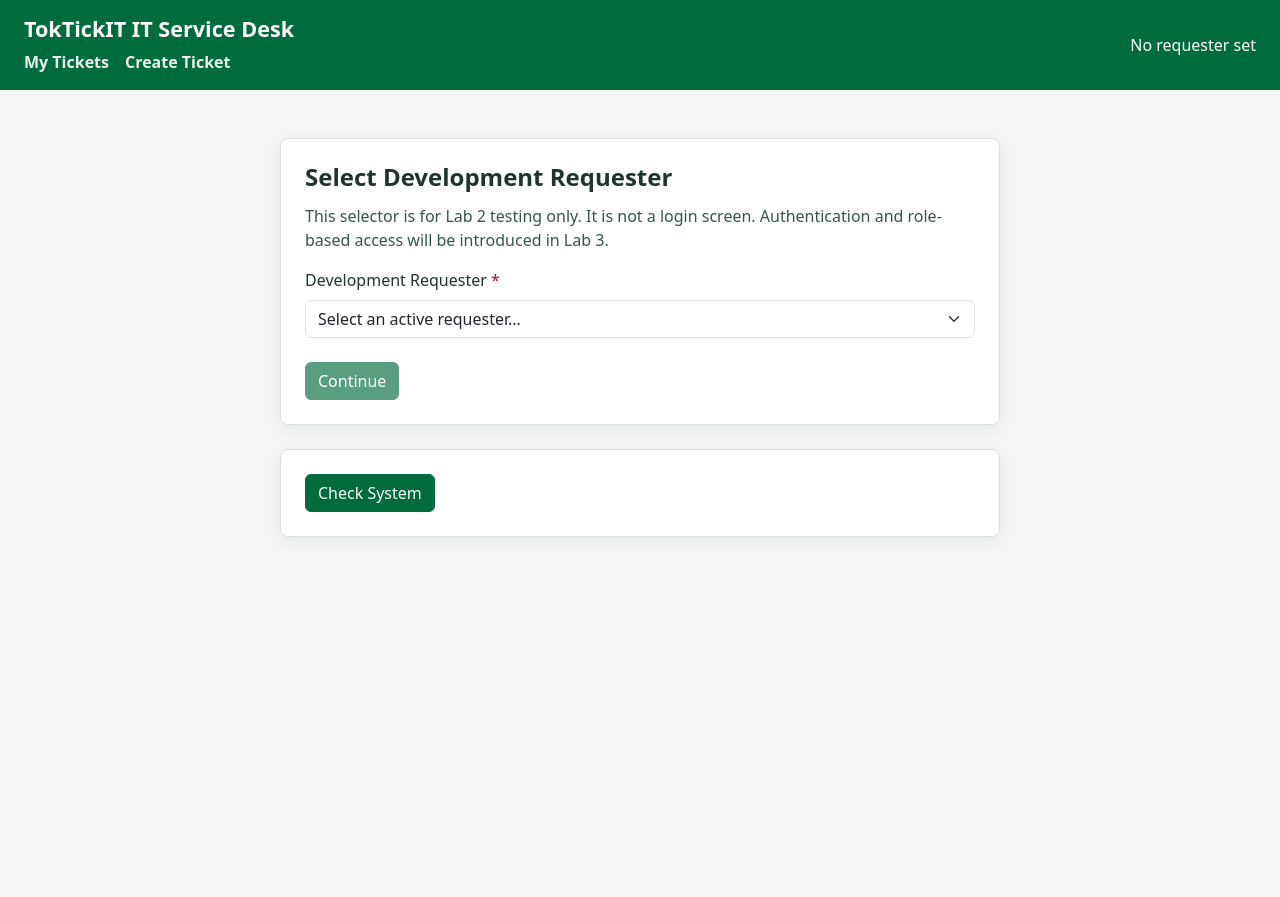
Scenario: My Tickets workflow › shows the selected Requester's paginated Ticket list
Select "Anong Student (anong.student@example.test)" in the dropdown labelled "Development Requester *": (640, 319) x1=305 y1=300 x2=975 y2=338
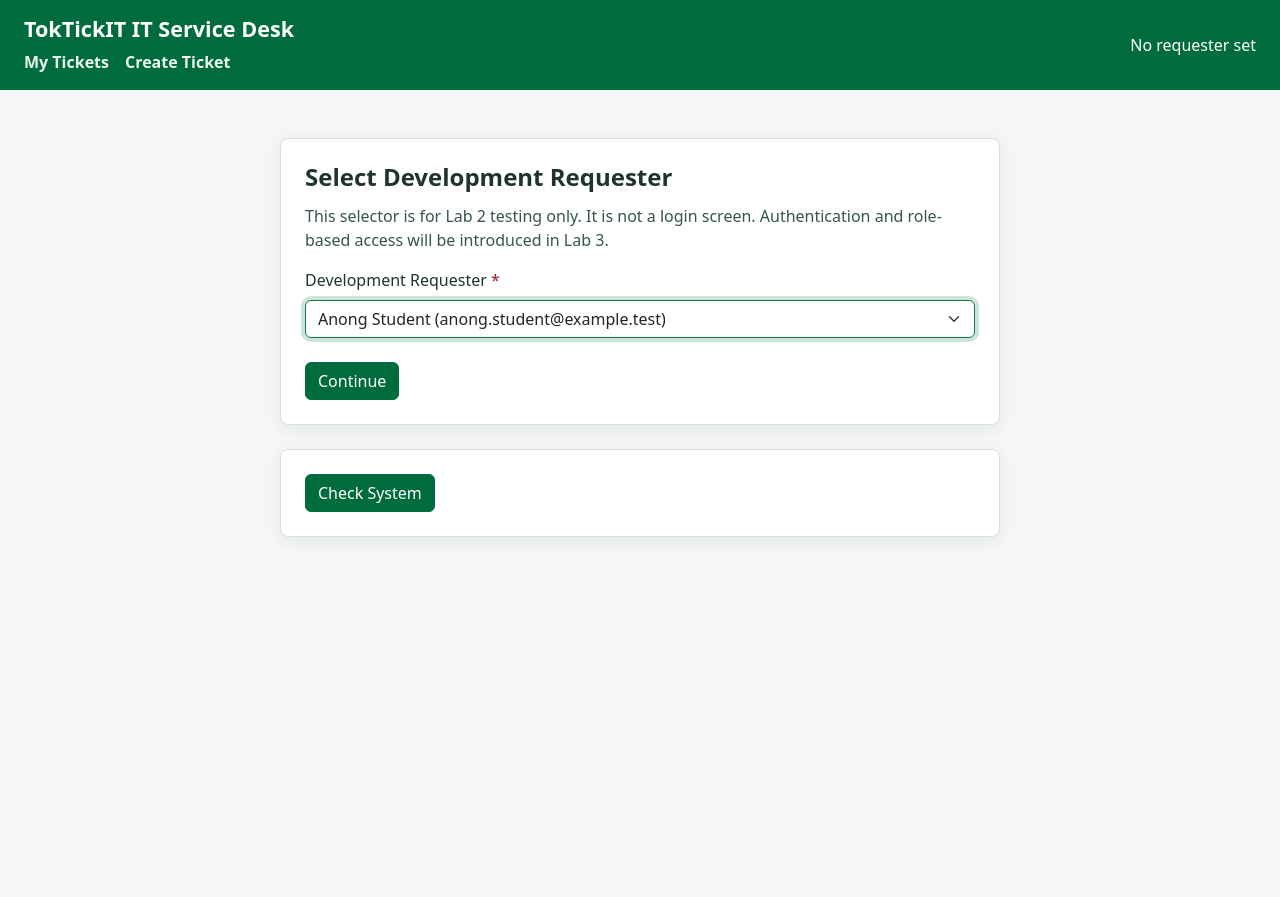
Click the button "Continue": (352, 381) x1=305 y1=362 x2=399 y2=400
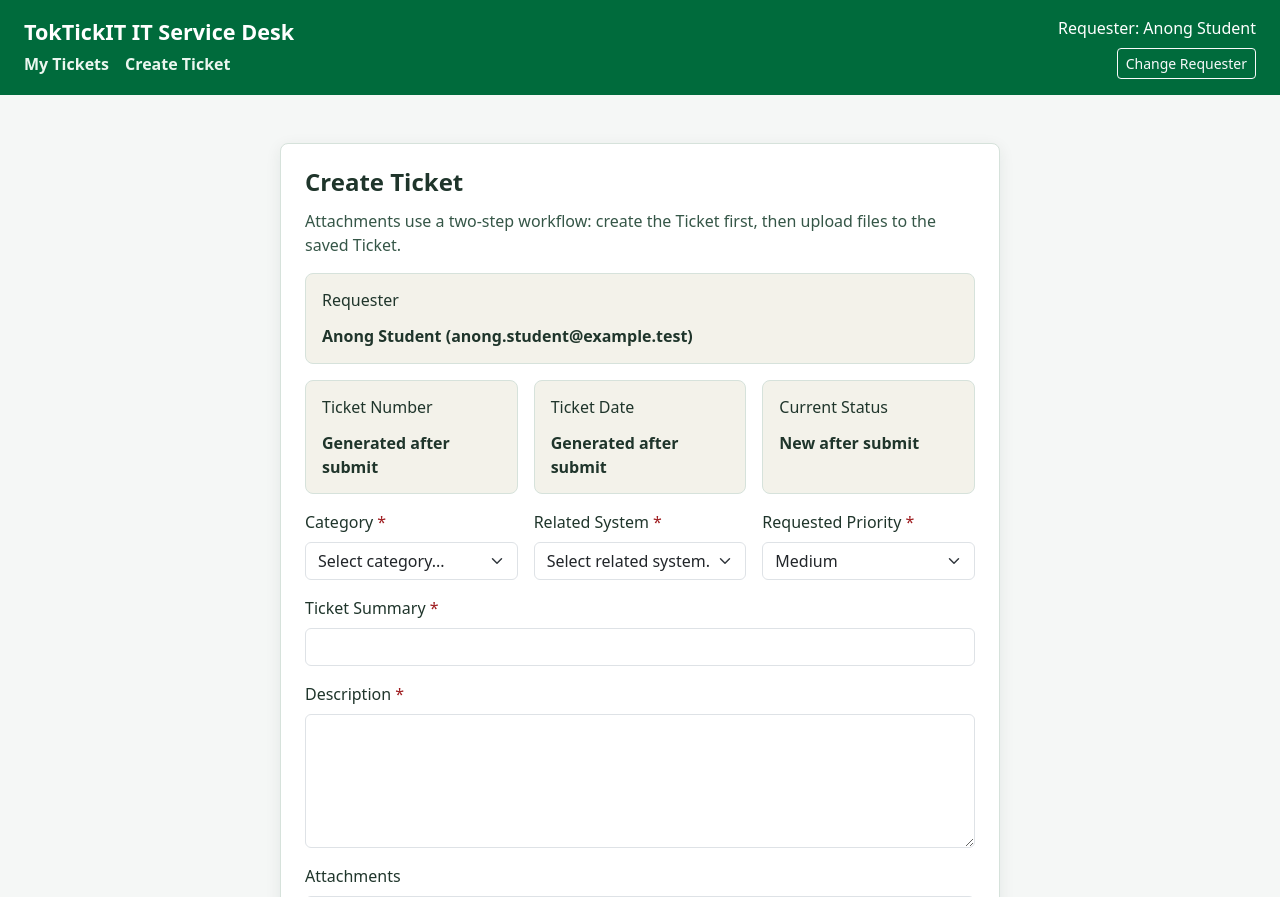
Click the link "My Tickets": (66, 64) x1=24 y1=52 x2=109 y2=76
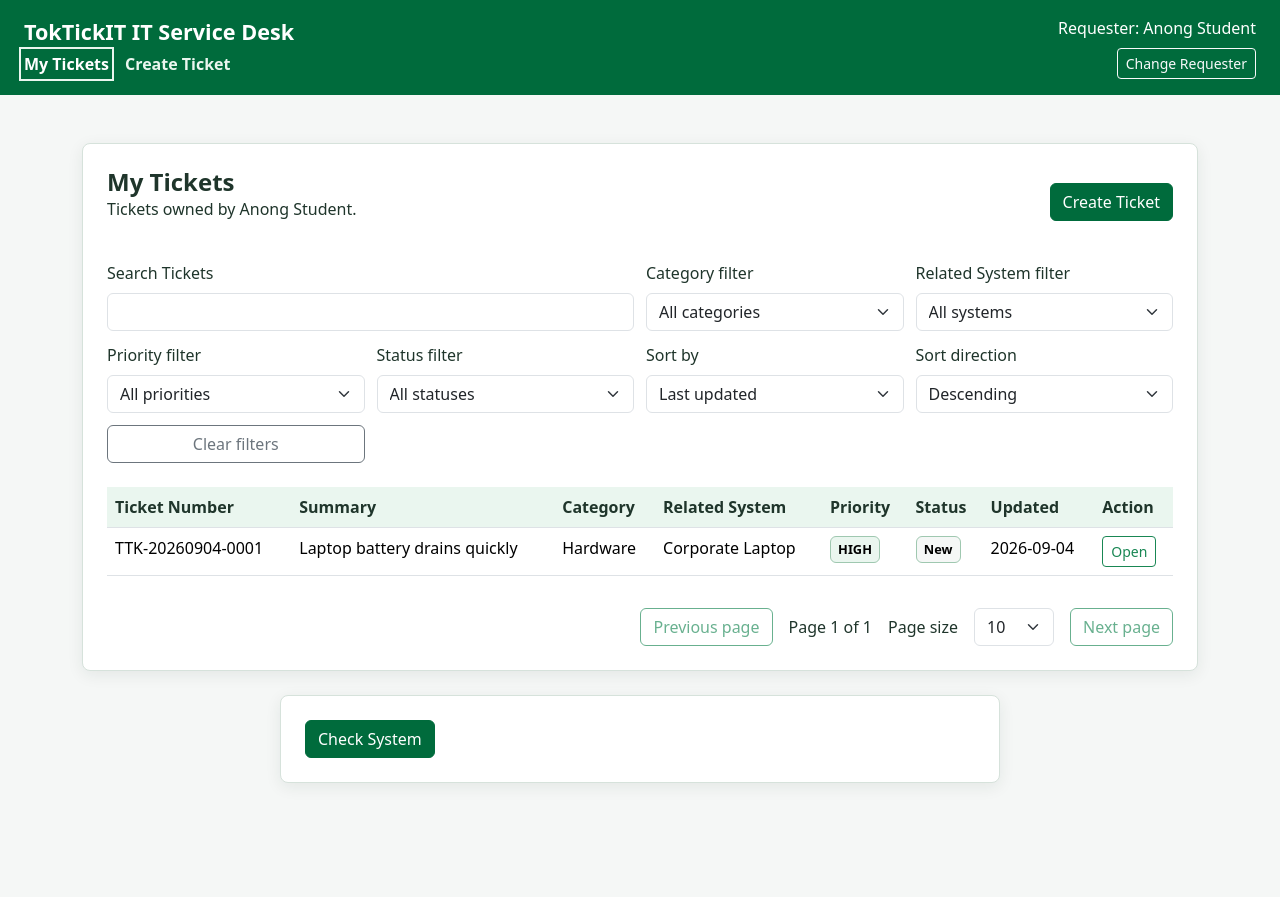
Expected: the column heading "Ticket Number" is shown, x1=107 y1=487 x2=291 y2=527
Expected: the heading "My Tickets" is shown, x1=107 y1=165 x2=234 y2=198
Expected: the text "TTK-20260904-0001" is shown 2 times
